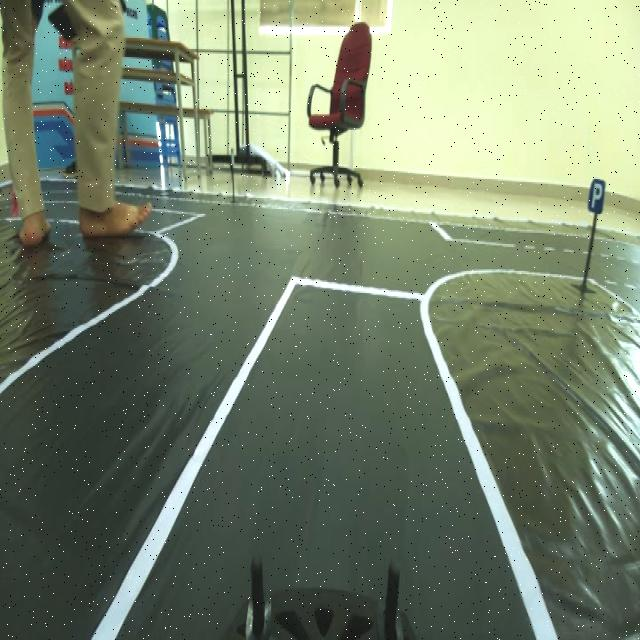parking: (586, 171, 607, 227)
